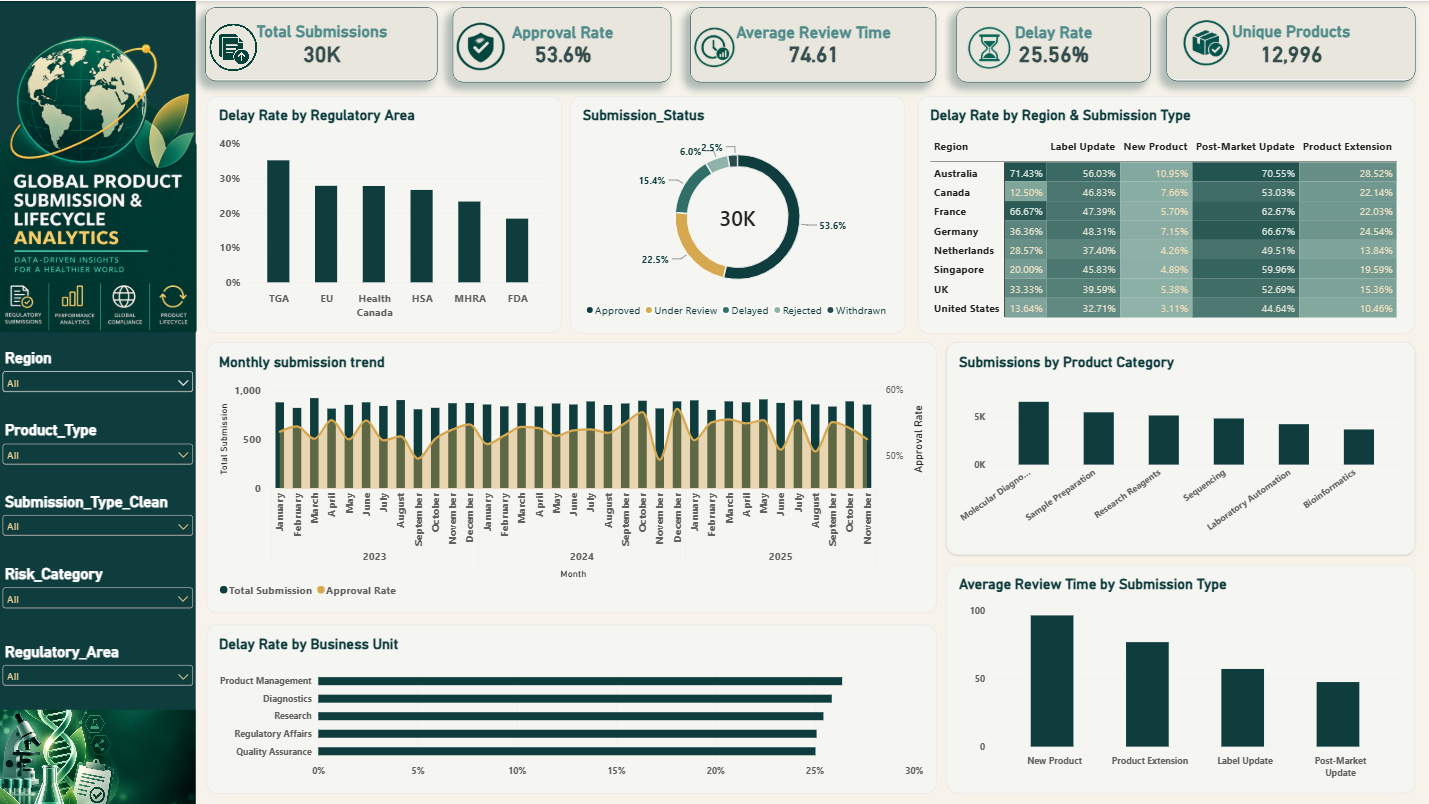

This screenshot's page, from the dashboard's own definition file:
{"tool":"powerbi","page":{"name":"Page 1","canvas":[1920,1080],"ordinal":0},"visuals":[{"type":"cardVisual","title":"Approval rate","fields":{"Data":["submissions_enriched.Approval Rate"]},"box":[608,8.4,293.1,100.5],"z":0},{"type":"cardVisual","fields":{"Data":["submissions_enriched.Average Review Time"]},"box":[926.2,8.4,330,100.5],"z":1000},{"type":"cardVisual","fields":{"Data":["submissions_enriched.Delay Rate"]},"box":[1283,8.4,259.6,100.5],"z":2000},{"type":"cardVisual","fields":{"Data":["submissions_enriched.Submitted Products Display"]},"box":[1564.4,8.4,333.3,98.8],"z":3000},{"type":"cardVisual","fields":{"Data":["CountNonNull(submissions_enriched.Submission_ID)"]},"box":[276.4,8.4,311.5,98.8],"z":4000},{"type":"clusteredColumnChart","title":"Delay Rate by Regulatory Area","fields":{"Category":["submissions_enriched.Regulatory_Area"],"Y":["submissions_enriched.Delay Rate"]},"box":[278,127.3,476.2,317.4],"z":5000},{"type":"clusteredColumnChart","title":"Average Review Time by Submission Type","fields":{"Category":["submissions_enriched.Submission_Type"],"Y":["submissions_enriched.Average Review Time"]},"box":[1269.6,755.4,628.1,306.5],"z":6000},{"type":"donutChart","title":"Submission_Status","fields":{"Category":["submissions_enriched.Submission_Status"],"Y":["CountNonNull(submissions_enriched.Submission_ID)"]},"box":[765.5,127.3,448.9,318.2],"z":7000},{"type":"clusteredColumnChart","title":"Submissions by Product Category","fields":{"Category":["submissions_enriched.Product_Category"],"Y":["CountNonNull(submissions_enriched.Submission_ID)"]},"box":[1269.6,457.3,628.1,284.7],"z":8000},{"type":"clusteredBarChart","title":"Delay Rate by Business Unit","fields":{"Category":["submissions_enriched.Business_Unit"],"Y":["submissions_enriched.Delay Rate"]},"box":[278,835.8,978.2,226.1],"z":9000},{"type":"lineClusteredColumnComboChart","title":"Monthly submission trend","fields":{"Category":["submissions_enriched.Submission_Date.Variation.Date Hierarchy.Year","submissions_enriched.Submission_Date.Variation.Date Hierarchy.Month"],"Y":["CountNonNull(submissions_enriched.Submission_ID)"],"Y2":["submissions_enriched.Approval Rate"]},"box":[278,457.3,978.2,363.5],"z":10000},{"type":"pivotTable","title":"Delay Rate by Region & Submission Type","fields":{"Columns":["submissions_enriched.Submission_Type_Clean"],"Rows":["submissions_enriched.Region"],"Values":["submissions_enriched.Delay Rate"]},"box":[1231.1,127.3,666.6,318.2],"z":11000},{"type":"shape","box":[0,0,263.4,1079.7],"z":12000},{"type":"slicer","title":"region","fields":{"Values":["submissions_enriched.Region"]},"box":[0,465.6,265.1,73.3],"z":13000},{"type":"slicer","fields":{"Values":["submissions_enriched.Submission_Type_Clean"]},"box":[0,658.3,265.1,75],"z":14000},{"type":"slicer","fields":{"Values":["submissions_enriched.Regulatory_Area"]},"box":[0,859.2,265.1,76.7],"z":15000},{"type":"slicer","fields":{"Values":["submissions_enriched.Product_Type"]},"box":[0,562.8,265.1,76.7],"z":16000},{"type":"slicer","fields":{"Values":["submissions_enriched.Risk_Category"]},"box":[0,755.4,264.6,65.3],"z":17000},{"type":"image","box":[0,0,264.6,485.7],"z":18000},{"type":"image","box":[278,28.5,72,67],"z":19000},{"type":"image","box":[608,25.1,75.4,70.3],"z":20000},{"type":"image","box":[929.6,16.7,58.6,90.4],"z":21000},{"type":"image","box":[1296.4,8.4,62,108.9],"z":22000},{"type":"image","box":[1584.5,16.7,67,78.7],"z":23000},{"type":"image","box":[0,949.7,263,130.6],"z":24000}]}

Visuals, with their boxes in screenshot pixels (x1, y1, x2, y2), scaled from the page's 1920x1080 canvas onto the 1429x804 screenshot:
"Approval rate" cardVisual: (x1=453, y1=6, x2=671, y2=81)
cardVisual - submissions_enriched.Average Review Time: (x1=689, y1=6, x2=935, y2=81)
cardVisual - submissions_enriched.Delay Rate: (x1=955, y1=6, x2=1148, y2=81)
cardVisual - submissions_enriched.Submitted Products Display: (x1=1164, y1=6, x2=1412, y2=80)
cardVisual - CountNonNull(submissions_enriched.Submission_ID): (x1=206, y1=6, x2=438, y2=80)
"Delay Rate by Regulatory Area" clusteredColumnChart: (x1=207, y1=95, x2=561, y2=331)
"Average Review Time by Submission Type" clusteredColumnChart: (x1=945, y1=562, x2=1412, y2=791)
"Submission_Status" donutChart: (x1=570, y1=95, x2=904, y2=332)
"Submissions by Product Category" clusteredColumnChart: (x1=945, y1=340, x2=1412, y2=552)
"Delay Rate by Business Unit" clusteredBarChart: (x1=207, y1=622, x2=935, y2=791)
"Monthly submission trend" lineClusteredColumnComboChart: (x1=207, y1=340, x2=935, y2=611)
"Delay Rate by Region & Submission Type" pivotTable: (x1=916, y1=95, x2=1412, y2=332)
shape: (x1=0, y1=0, x2=196, y2=803)
"region" slicer: (x1=0, y1=347, x2=197, y2=401)
slicer - submissions_enriched.Submission_Type_Clean: (x1=0, y1=490, x2=197, y2=546)
slicer - submissions_enriched.Regulatory_Area: (x1=0, y1=640, x2=197, y2=697)
slicer - submissions_enriched.Product_Type: (x1=0, y1=419, x2=197, y2=476)
slicer - submissions_enriched.Risk_Category: (x1=0, y1=562, x2=197, y2=611)
image: (x1=0, y1=0, x2=197, y2=362)
image: (x1=207, y1=21, x2=260, y2=71)
image: (x1=453, y1=19, x2=509, y2=71)
image: (x1=692, y1=12, x2=735, y2=80)
image: (x1=965, y1=6, x2=1011, y2=87)
image: (x1=1179, y1=12, x2=1229, y2=71)
image: (x1=0, y1=707, x2=196, y2=803)
